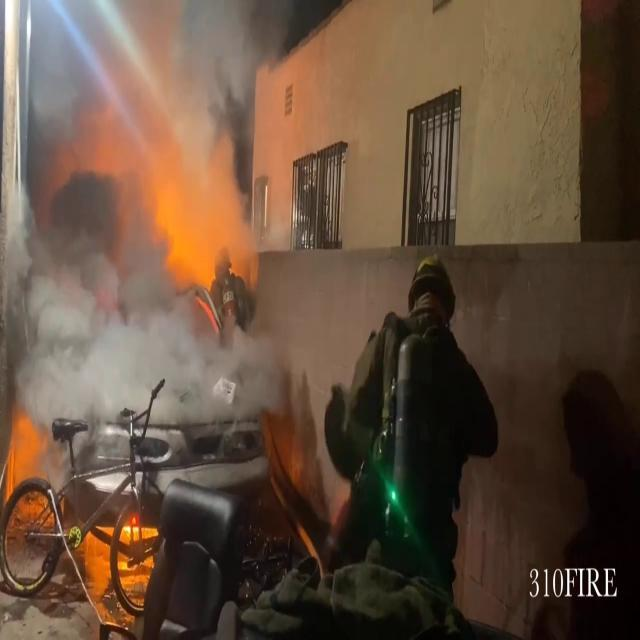Fire: (0, 406, 50, 509)
Smoke: (0, 1, 308, 422)
